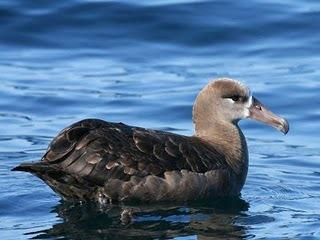001.Black_footed_Albatross: (12, 76, 291, 210)
